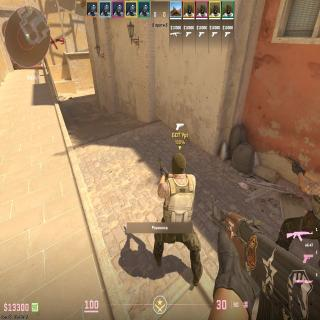T-Body: (157, 151, 199, 284)
T-Head: (172, 152, 186, 174)
